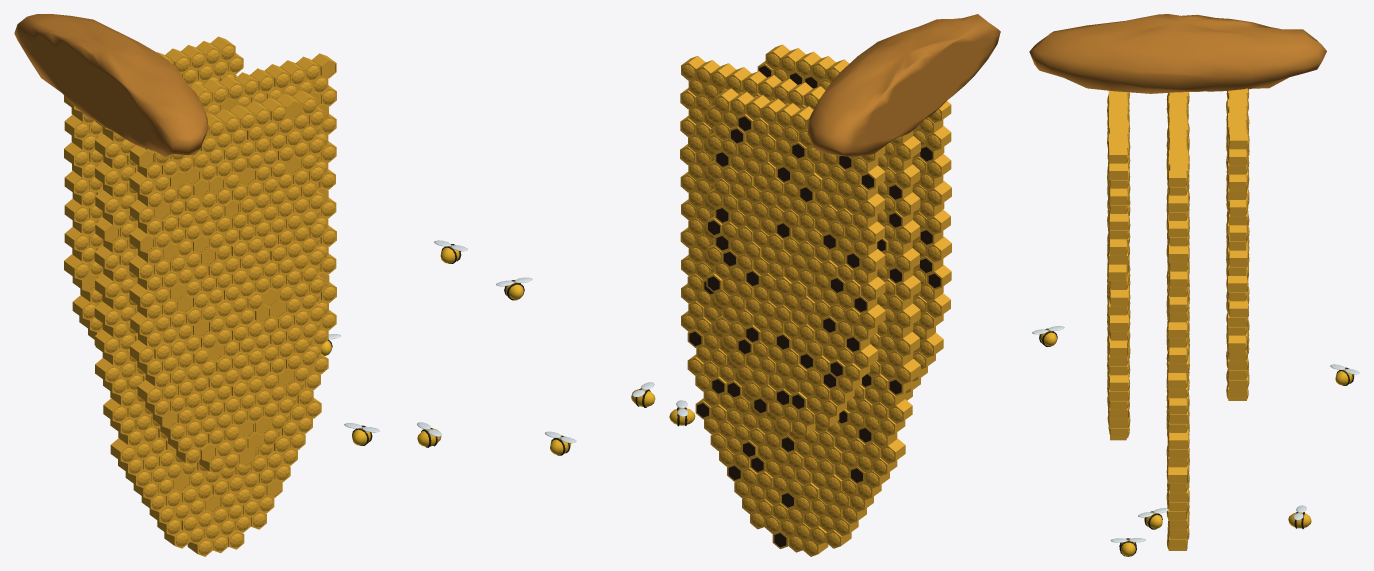
The model's file is rock_beehive.glb.
The picture shows the model from 3 angles, left to right: view 1: azimuth 30°, elevation 25°; view 2: azimuth 150°, elevation 25°; view 3: azimuth 270°, elevation 25°; orthographic projection. The views are drawn at different scales.
Parts seen in each view (by area): view 1: RockBeehive_Sheet0, RockBeehive_Sheet1, RockBeehive_Band, RockBeehive_Sheet2; view 2: RockBeehive_Sheet2, RockBeehive_Sheet1, RockBeehive_Band, RockBeehive_Sheet0; view 3: RockBeehive_Band, RockBeehive_Sheet1, RockBeehive_Sheet0, RockBeehive_Sheet2.
Part boxes in pixels (left/top/right/bottom): RockBeehive_Sheet0: left=129, top=90, right=325, bottom=474; RockBeehive_Sheet1: left=94, top=53, right=336, bottom=556; RockBeehive_Band: left=14, top=14, right=208, bottom=156; RockBeehive_Sheet2: left=64, top=36, right=243, bottom=351; RockBeehive_Sheet2: left=706, top=88, right=885, bottom=437; RockBeehive_Sheet1: left=680, top=56, right=920, bottom=556; RockBeehive_Band: left=807, top=14, right=1000, bottom=156; RockBeehive_Sheet0: left=757, top=44, right=951, bottom=400; RockBeehive_Band: left=1029, top=14, right=1326, bottom=93; RockBeehive_Sheet1: left=1166, top=92, right=1189, bottom=550; RockBeehive_Sheet0: left=1107, top=90, right=1130, bottom=440; RockBeehive_Sheet2: left=1226, top=88, right=1249, bottom=400.
Size of the model in its own units: 0.4645 by 0.7069 by 0.4436.
